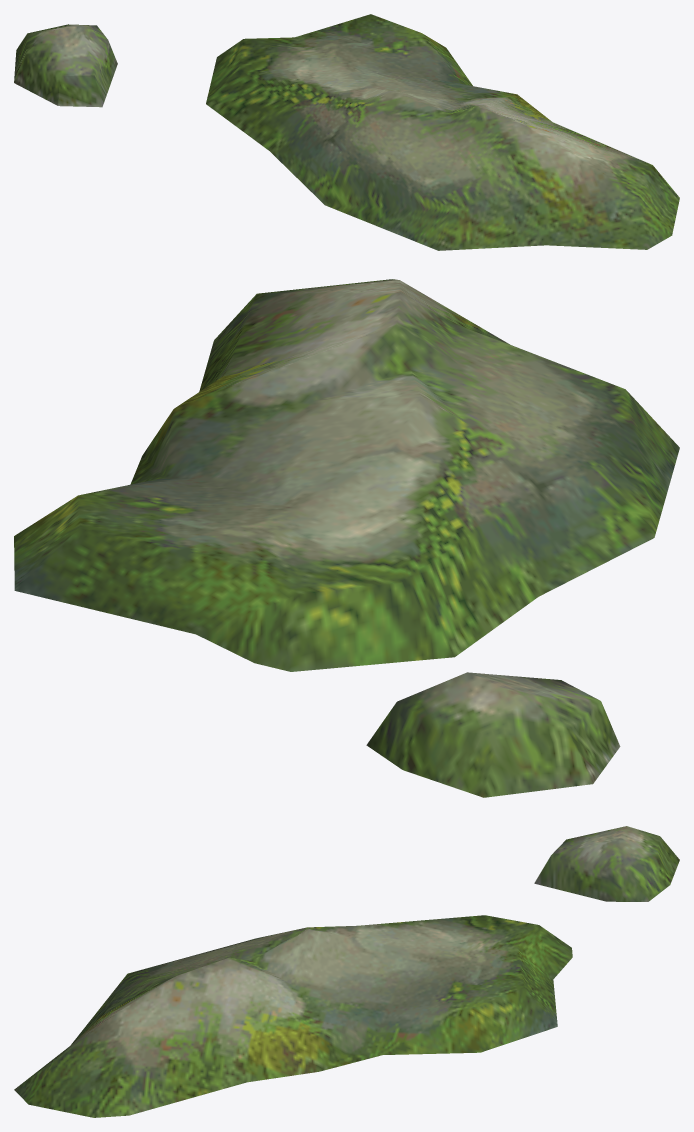
File: 7001_Item_shitou_9.FBX
The picture shows the model from 3 angles, top to bottom: view 1: azimuth 30°, elevation 25°; view 2: azimuth 150°, elevation 25°; view 3: azimuth 270°, elevation 25°; orthographic projection. The views are drawn at different scales.
Parts seen in each view (by area): view 1: 7001_Item_shitou_9; view 2: 7001_Item_shitou_9; view 3: 7001_Item_shitou_9.
Part boxes in pixels (x1,y1,x2,y2): 7001_Item_shitou_9: [14, 14, 679, 250]; 7001_Item_shitou_9: [14, 279, 679, 797]; 7001_Item_shitou_9: [14, 826, 679, 1117].
Size of the model in its own units: 363 by 73.61 by 454.
